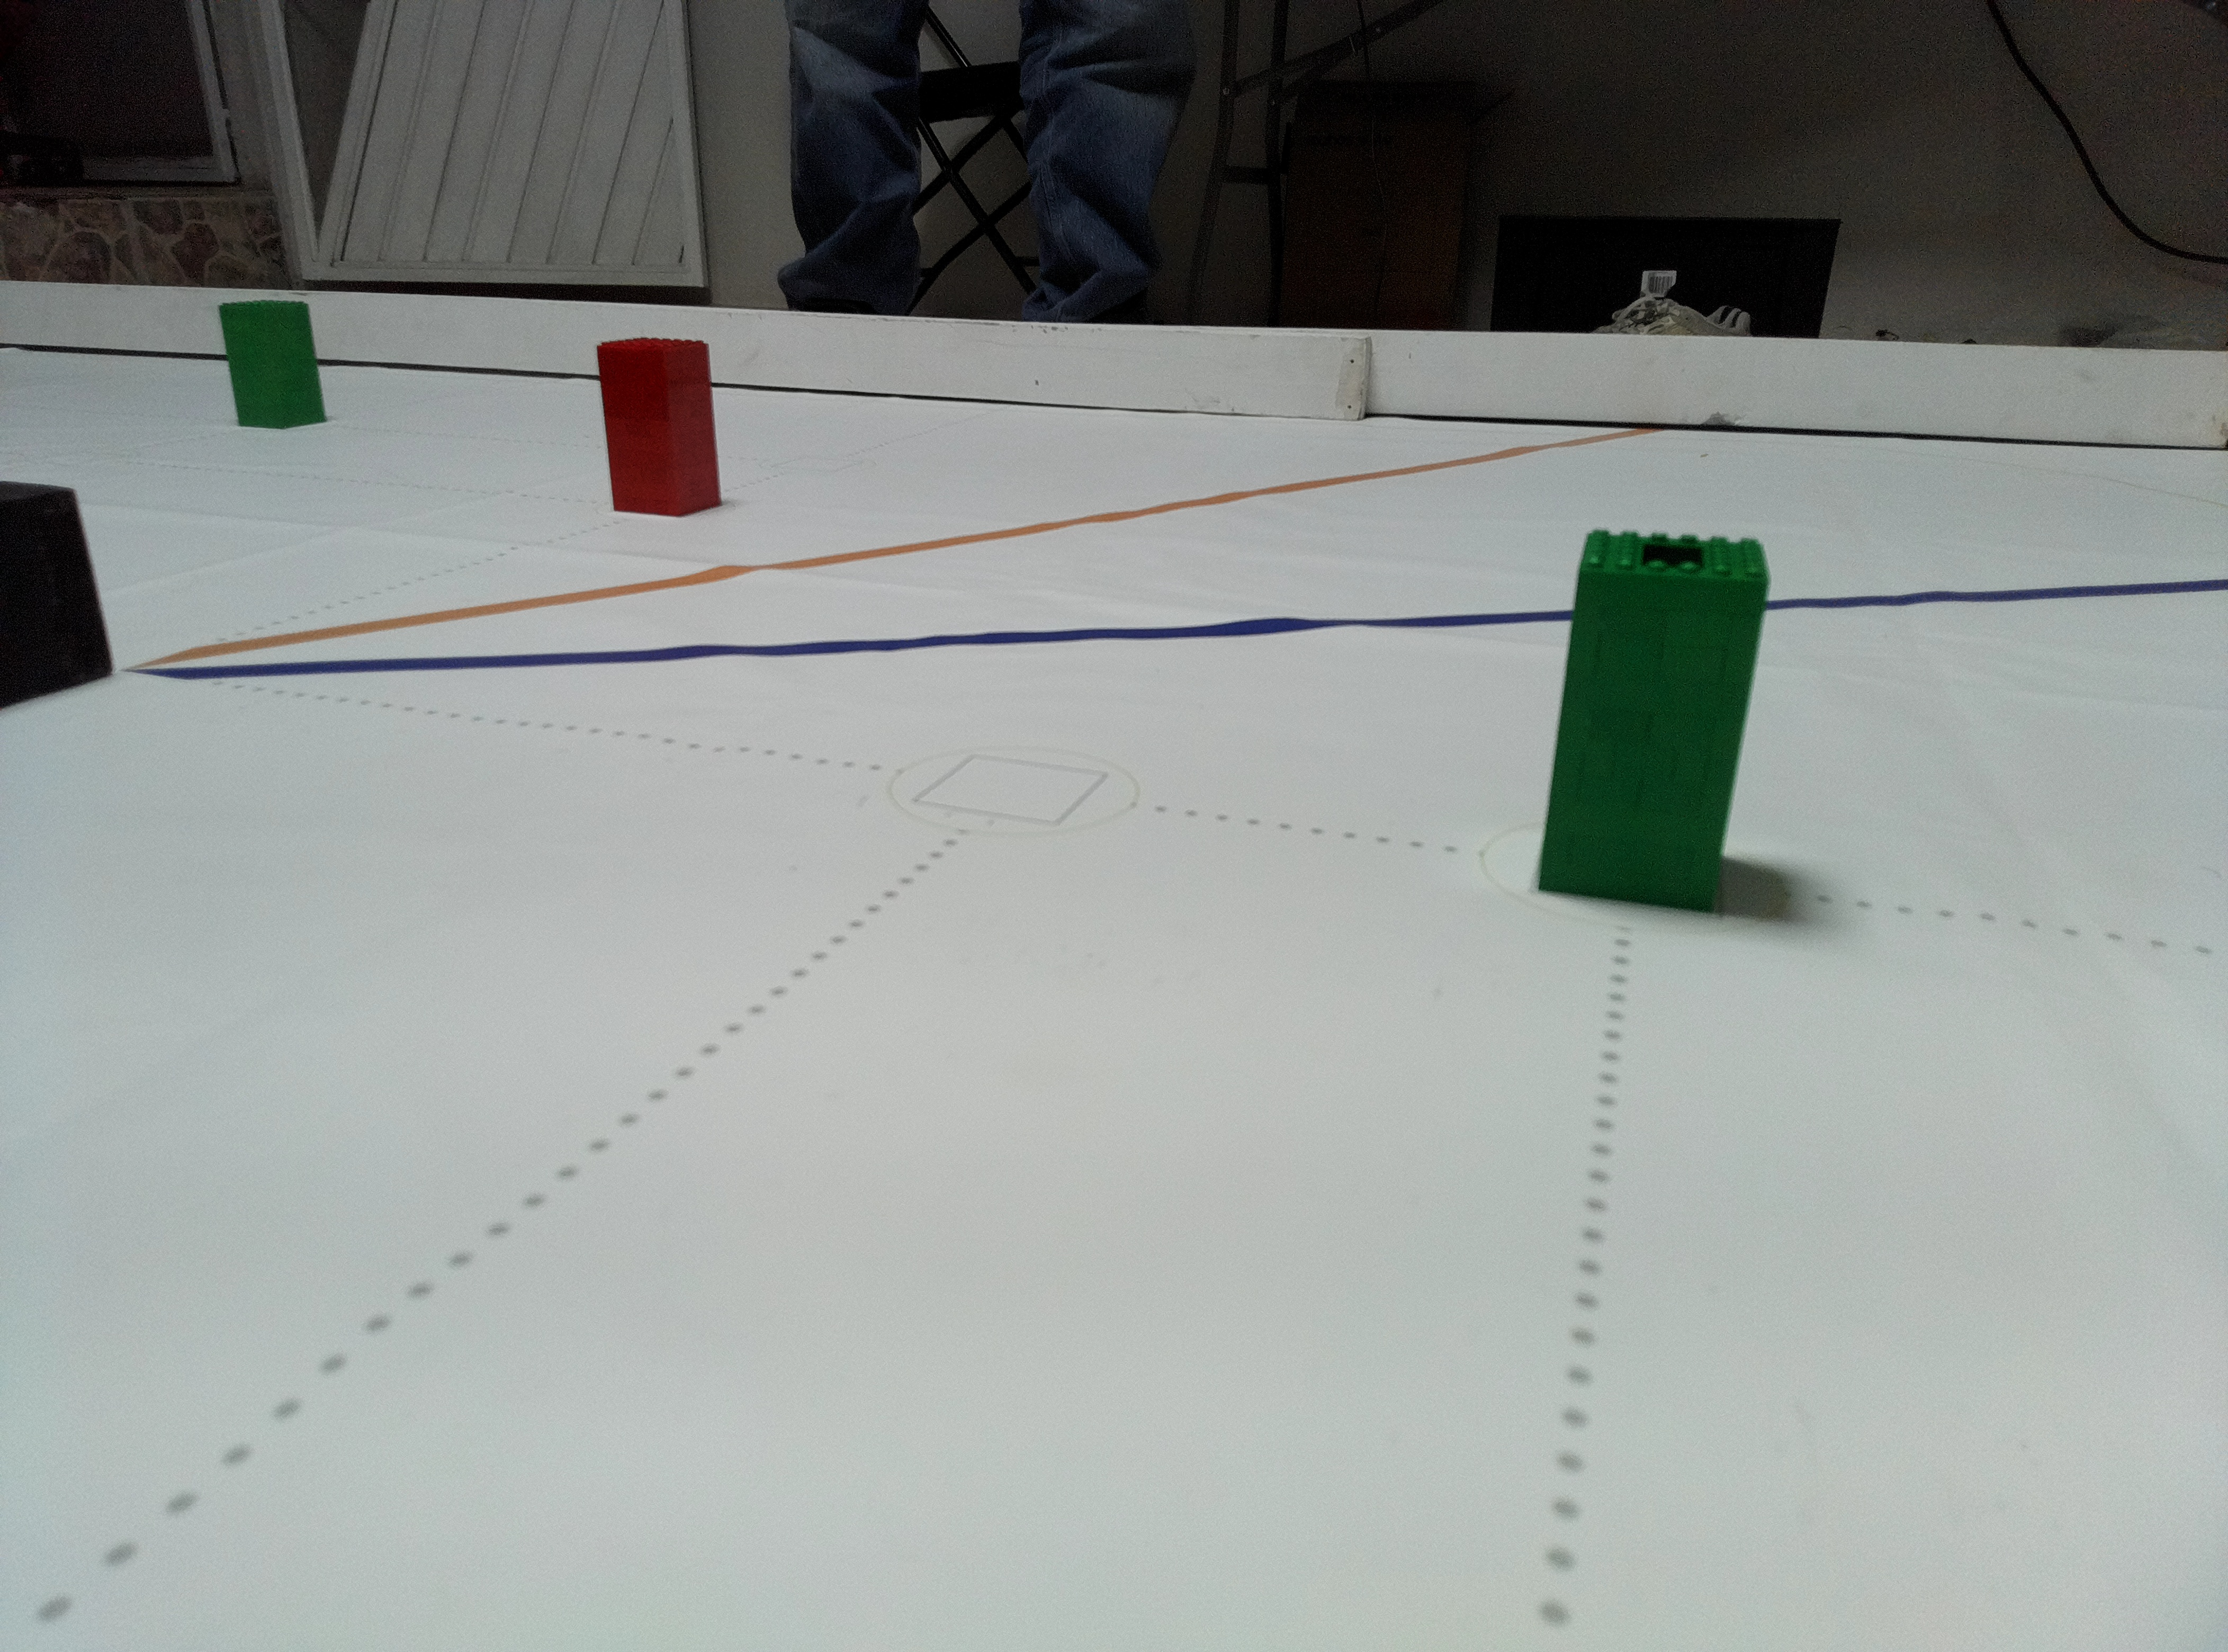greenbox: (1532, 524, 1772, 916), (219, 297, 330, 429)
redbox: (592, 337, 724, 524)
